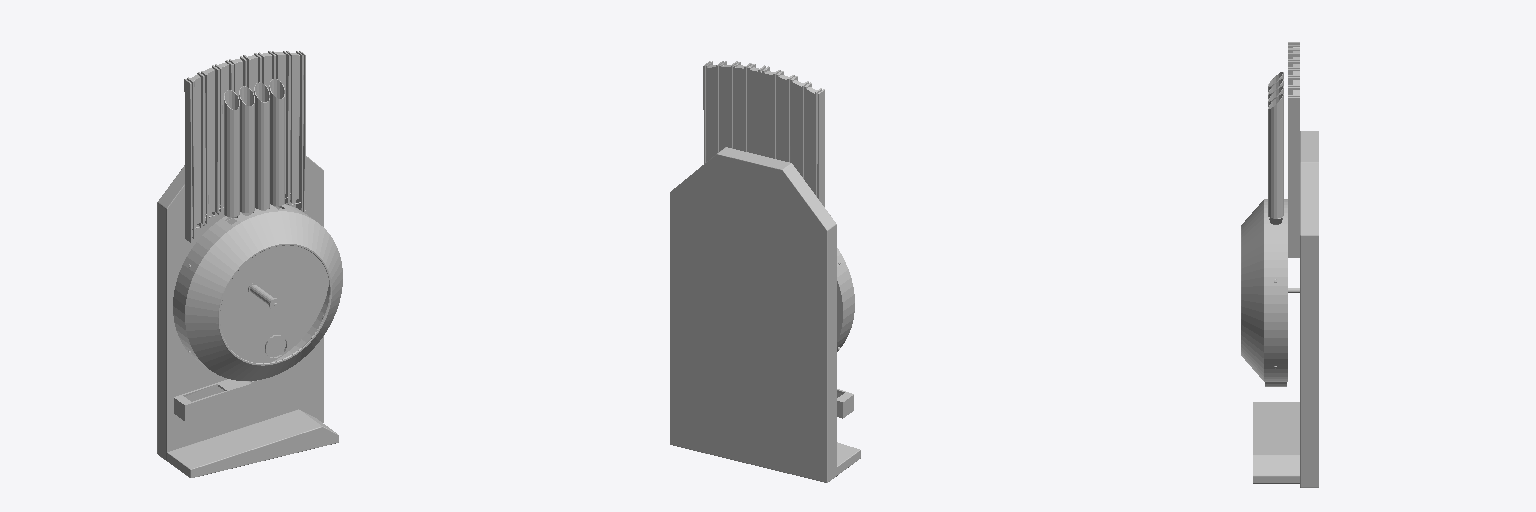
File: roller.obj
3 views of the same model, side by side, from view 1: azimuth 30°, elevation 25°; view 2: azimuth 150°, elevation 25°; view 3: azimuth 270°, elevation 25° (orthographic).
Visible parts, largest first — view 1: Body_Mesh.006, Volum_Base_Glass_Mesh.005, export_Glass_Mesh.005, Import_glass_Mesh.005, Import_glass002_Mesh.005, Import_glass003_Mesh.005, Import_glass001_Mesh.005; view 2: Body_Mesh.006, Volum_Base_Glass_Mesh.005; view 3: Body_Mesh.006, Volum_Base_Glass_Mesh.005, Import_glass003_Mesh.005.
Part boxes in pixels (bbox=[...]): Body_Mesh.006: bbox=[157, 51, 338, 477]; Volum_Base_Glass_Mesh.005: bbox=[173, 204, 342, 380]; export_Glass_Mesh.005: bbox=[174, 378, 267, 420]; Import_glass_Mesh.005: bbox=[224, 90, 239, 216]; Import_glass002_Mesh.005: bbox=[254, 82, 269, 209]; Import_glass003_Mesh.005: bbox=[269, 79, 284, 205]; Import_glass001_Mesh.005: bbox=[239, 86, 254, 212]; Body_Mesh.006: bbox=[670, 61, 860, 482]; Volum_Base_Glass_Mesh.005: bbox=[837, 248, 854, 351]; Body_Mesh.006: bbox=[1253, 42, 1318, 487]; Volum_Base_Glass_Mesh.005: bbox=[1241, 199, 1287, 381]; Import_glass003_Mesh.005: bbox=[1268, 94, 1283, 218].
Bounding box in the file's own units: 76.63 × 179 × 32.99.